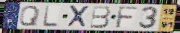3: (138, 6, 160, 30)
B: (90, 5, 112, 29)
F: (114, 5, 139, 29)
L: (42, 4, 60, 28)
Q: (18, 5, 42, 27)
X: (66, 5, 91, 29)
